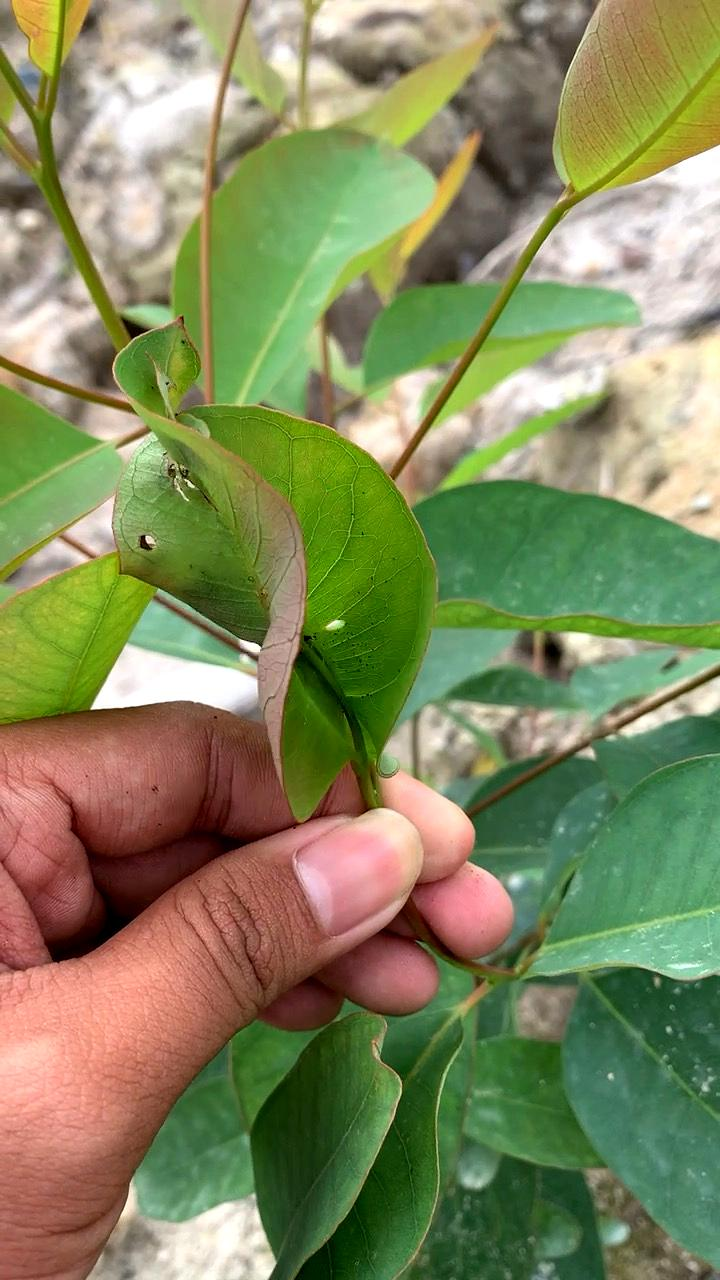Leaf Roller - Leaf: (77, 296, 476, 842)
